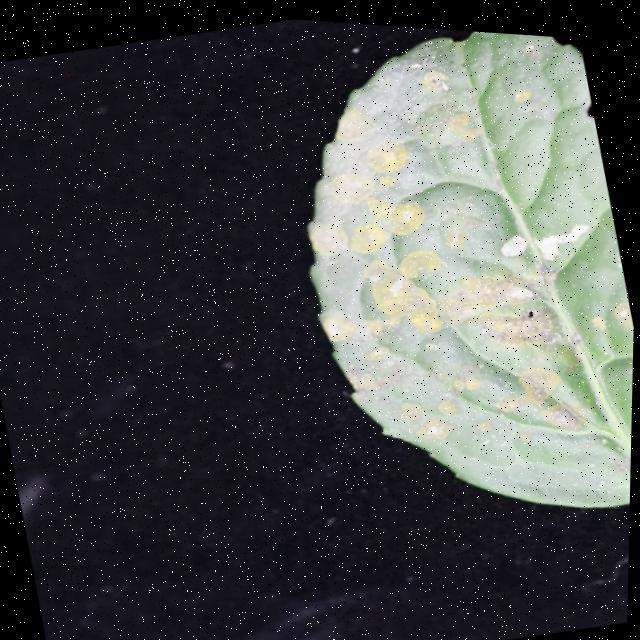Tea algae leaf spot: (265, 14, 621, 447)
